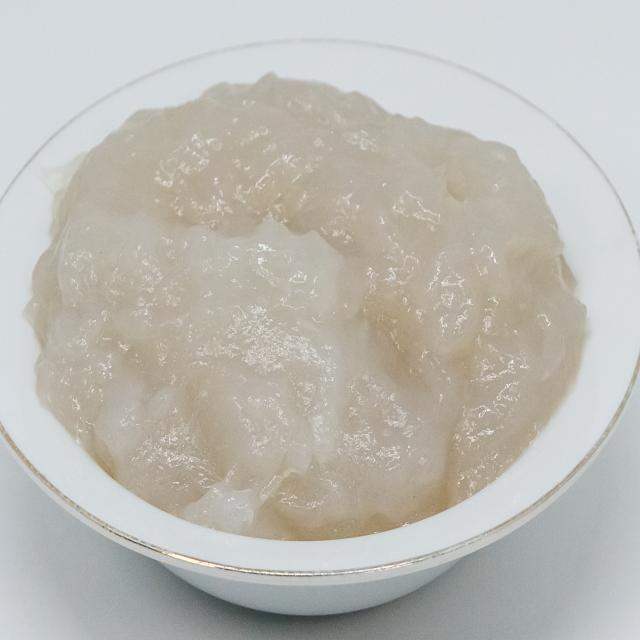Papeda: (20, 58, 595, 566)
